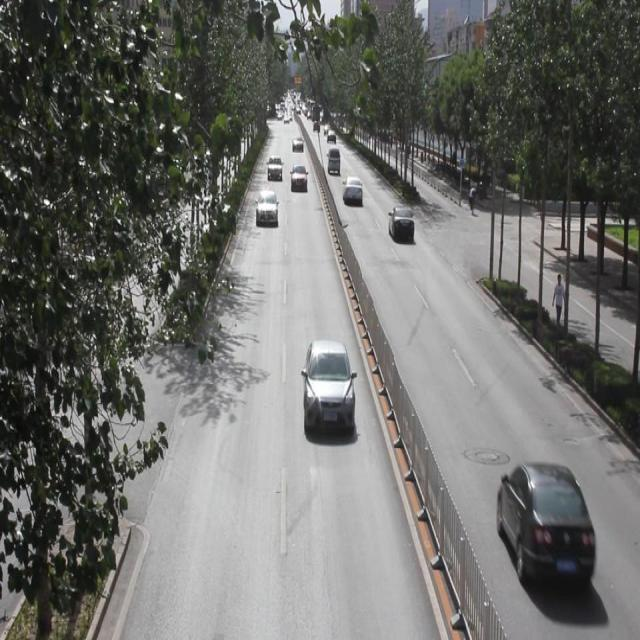car: (496, 461, 593, 589), (302, 340, 353, 432), (388, 205, 416, 244), (256, 188, 278, 228), (341, 174, 363, 206), (290, 165, 307, 191), (267, 154, 282, 180), (291, 135, 303, 152), (326, 128, 336, 142)
truck: (326, 146, 340, 173)
